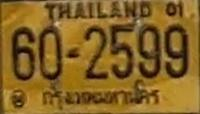0: (38, 25, 62, 79)
2: (84, 25, 106, 79)
5: (109, 23, 133, 78)
6: (11, 26, 34, 80)
9: (163, 24, 188, 78), (137, 24, 160, 78)
BKK: (38, 85, 166, 113)
